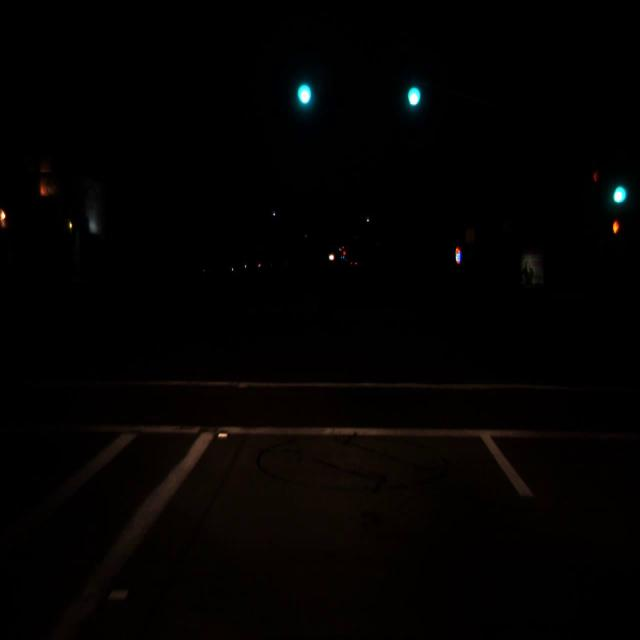go: (298, 85, 311, 104), (614, 187, 626, 203), (408, 88, 420, 103)
go traffic light: (292, 58, 314, 114), (402, 64, 424, 110), (607, 164, 629, 210)
